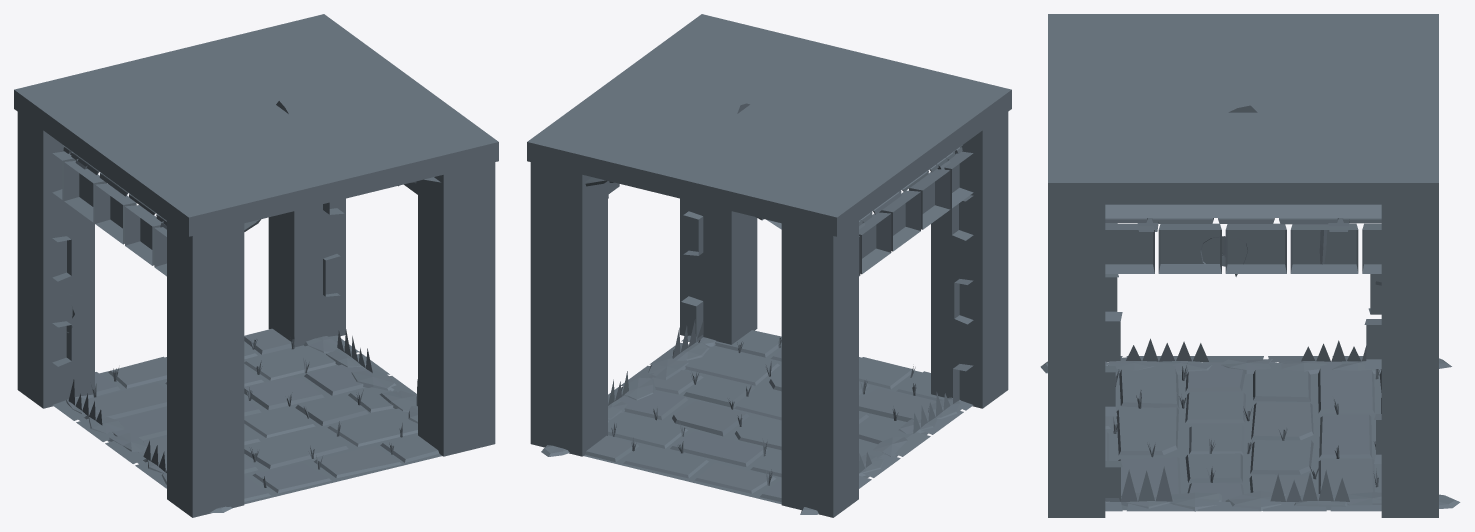
Rendered from tile_corridor_open.glb.
The picture shows the model from 3 angles, left to right: view 1: azimuth 30°, elevation 25°; view 2: azimuth 150°, elevation 25°; view 3: azimuth 270°, elevation 25°; orthographic projection. The views are drawn at different scales.
Parts seen in each view (by area): view 1: Tile_Corridor_Open; view 2: Tile_Corridor_Open; view 3: Tile_Corridor_Open.
Boxes of the visible parts, bbox=[...] form: Tile_Corridor_Open: bbox=[14, 14, 498, 517]; Tile_Corridor_Open: bbox=[527, 14, 1011, 517]; Tile_Corridor_Open: bbox=[1040, 14, 1460, 517].
Bounding box in the file's own units: 4.2 × 4 × 4.41.
